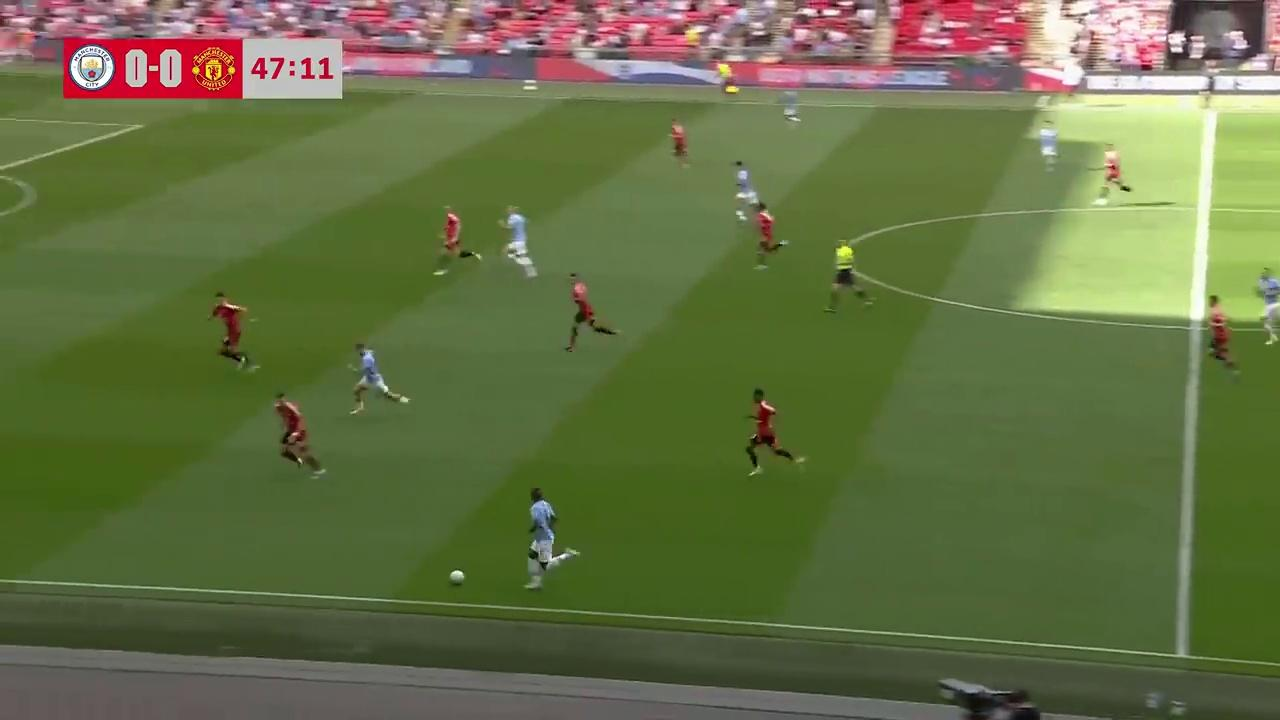ball: (448, 567, 466, 586)
player: (523, 487, 582, 587), (743, 387, 808, 476), (272, 391, 327, 477), (564, 271, 621, 353), (348, 342, 408, 415), (207, 291, 256, 369), (432, 207, 482, 274), (497, 205, 538, 277), (1205, 296, 1240, 373), (1093, 145, 1133, 205), (752, 203, 787, 269), (1254, 267, 1280, 346), (733, 159, 759, 221), (668, 118, 690, 169), (1036, 121, 1058, 169), (780, 83, 801, 125)
referee: (823, 237, 873, 313), (715, 54, 738, 95)
